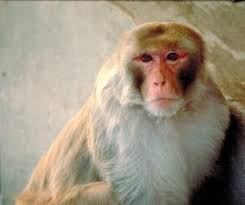monkey: (57, 17, 216, 205)
